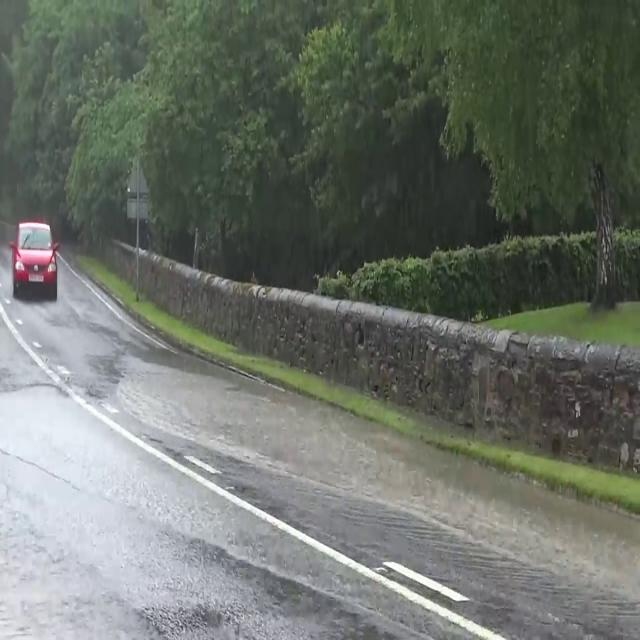license-plate-annotation: (27, 270, 47, 288)
